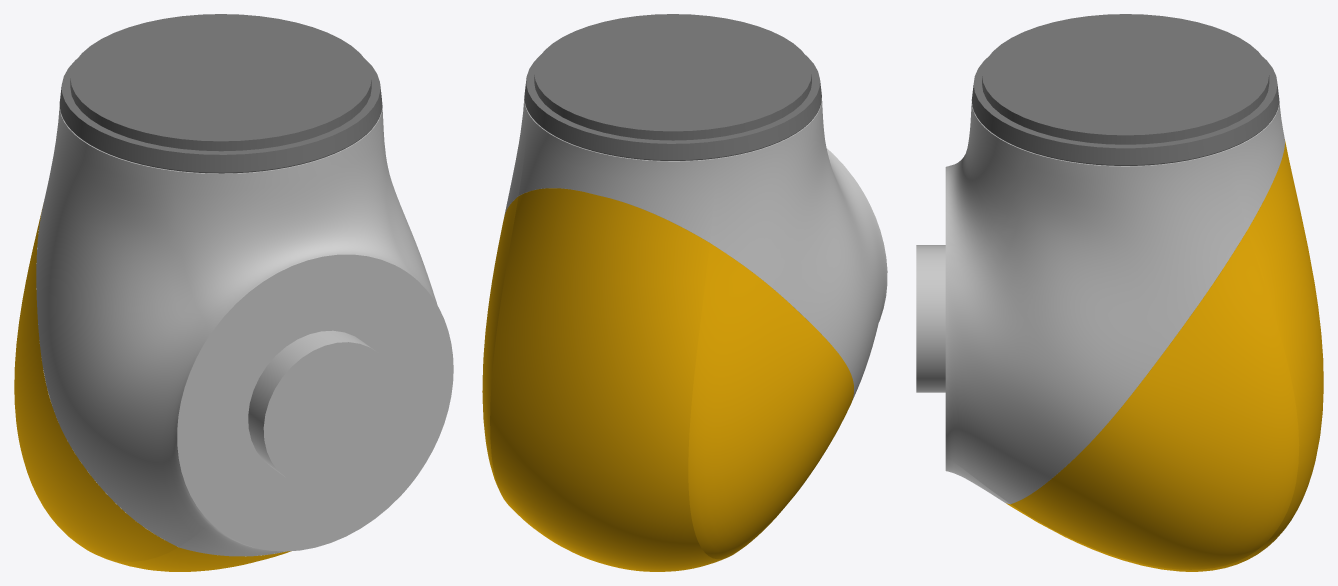
3 renders of one model, left to right at view 1: azimuth 30°, elevation 25°; view 2: azimuth 150°, elevation 25°; view 3: azimuth 270°, elevation 25°, orthographic. The views are drawn at different scales.
Parts seen in each view (by area): view 1: link_6; view 2: link_6; view 3: link_6.
Boxes of the visible parts, box(x1,y1,x2,y2) form: link_6: box(14, 14, 453, 571); link_6: box(482, 14, 887, 571); link_6: box(916, 14, 1323, 571).
Size of the model in its own units: 0.1323 by 0.1376 by 0.1775.
